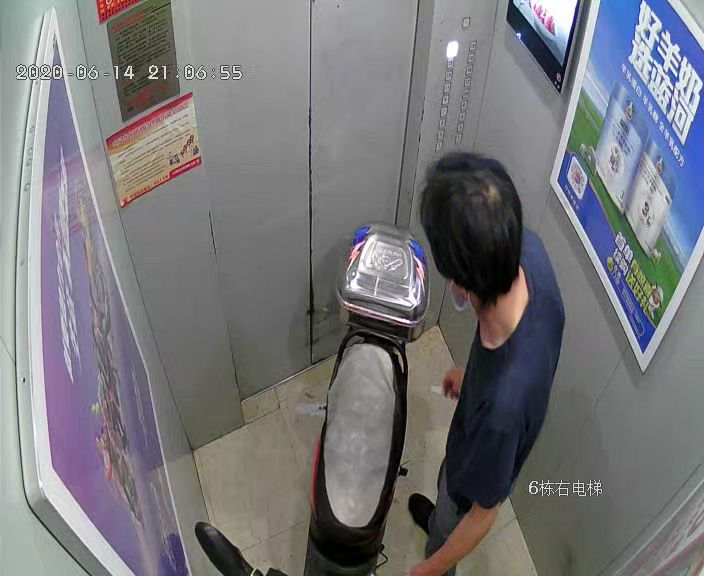Electric-bicycle: (195, 220, 430, 576)
